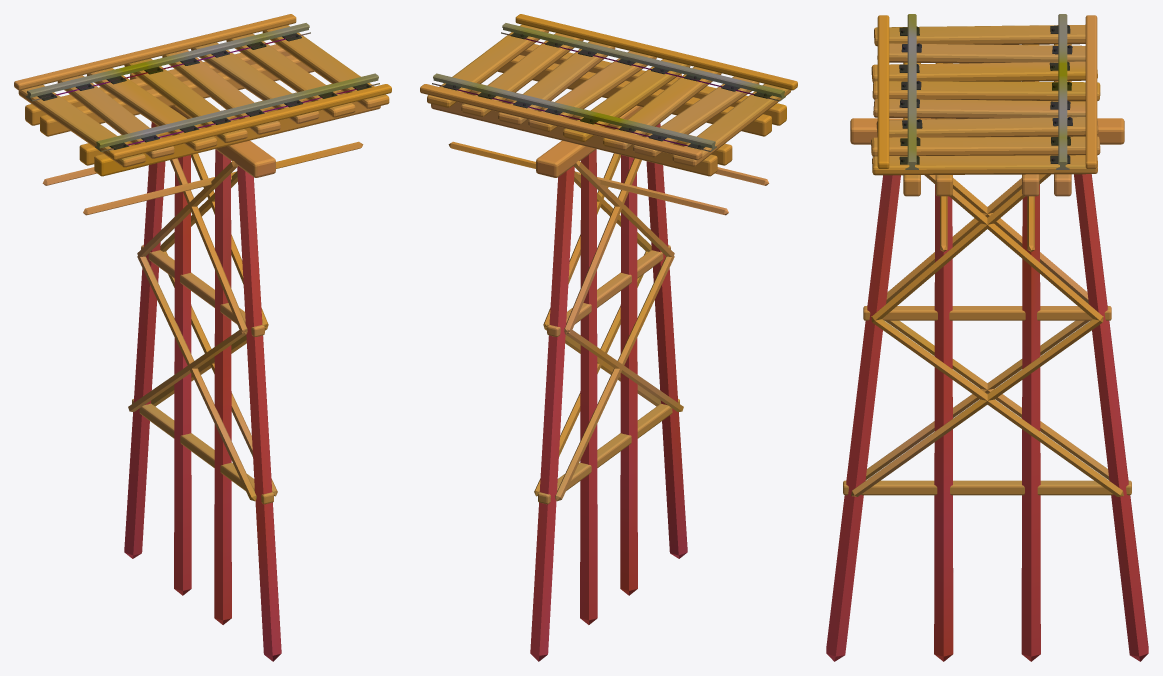
Rendered from Track_Bridge_Trestle_6m.glb.
The picture shows the model from 3 angles, left to right: view 1: azimuth 30°, elevation 25°; view 2: azimuth 150°, elevation 25°; view 3: azimuth 270°, elevation 25°; orthographic projection. The views are drawn at different scales.
Parts seen in each view (by area): view 1: Track_Bridge_Trestle_6m; view 2: Track_Bridge_Trestle_6m; view 3: Track_Bridge_Trestle_6m.
Part boxes in pixels (box(x1,y1,x2,y2)): Track_Bridge_Trestle_6m: box(14, 14, 391, 661); Track_Bridge_Trestle_6m: box(420, 14, 797, 661); Track_Bridge_Trestle_6m: box(826, 14, 1148, 661).
Size of the model in its own units: 6.04 by 10.85 by 5.53.
